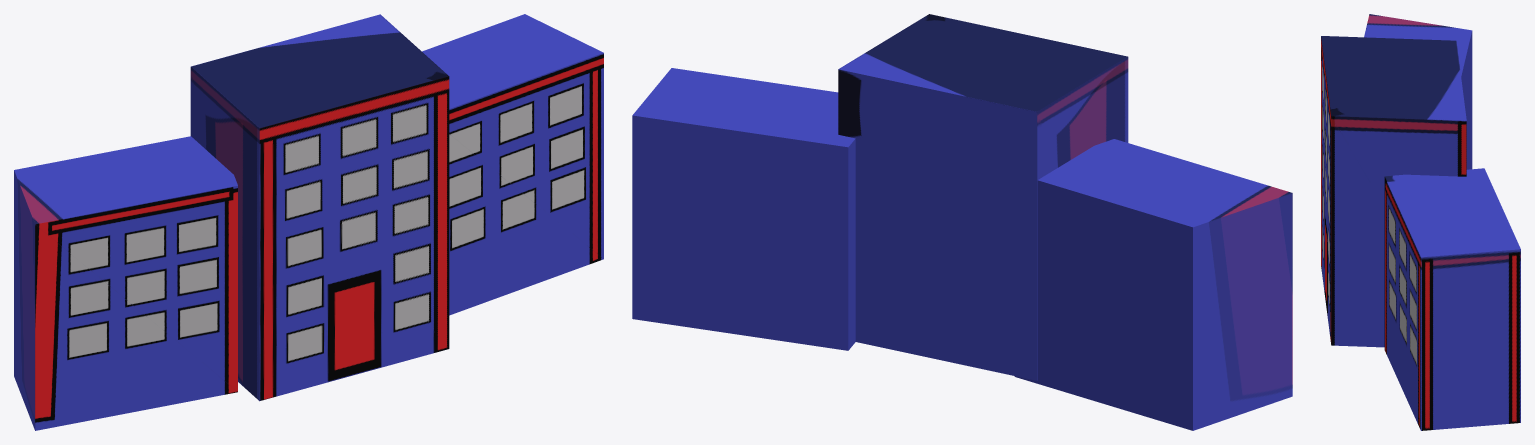
File: lib1.fbx
3 views of the same model, side by side, from view 1: azimuth 30°, elevation 25°; view 2: azimuth 150°, elevation 25°; view 3: azimuth 270°, elevation 25° (orthographic). The views are drawn at different scales.
Parts seen in each view (by area): view 1: node_id37 (×2), node_id39; view 2: node_id37 (×2), node_id39; view 3: node_id37 (×2), node_id39.
Part boxes in pixels (x1,y1,x2,y2): node_id37 (×2): (14, 14, 449, 430); node_id39: (422, 14, 603, 315); node_id37 (×2): (838, 14, 1292, 430); node_id39: (632, 68, 855, 350); node_id37 (×2): (1321, 14, 1472, 347); node_id39: (1384, 168, 1520, 430).
Bounding box in the file's own units: 2.81 × 1.24 × 0.9662.
3 materials, 3 textured.
